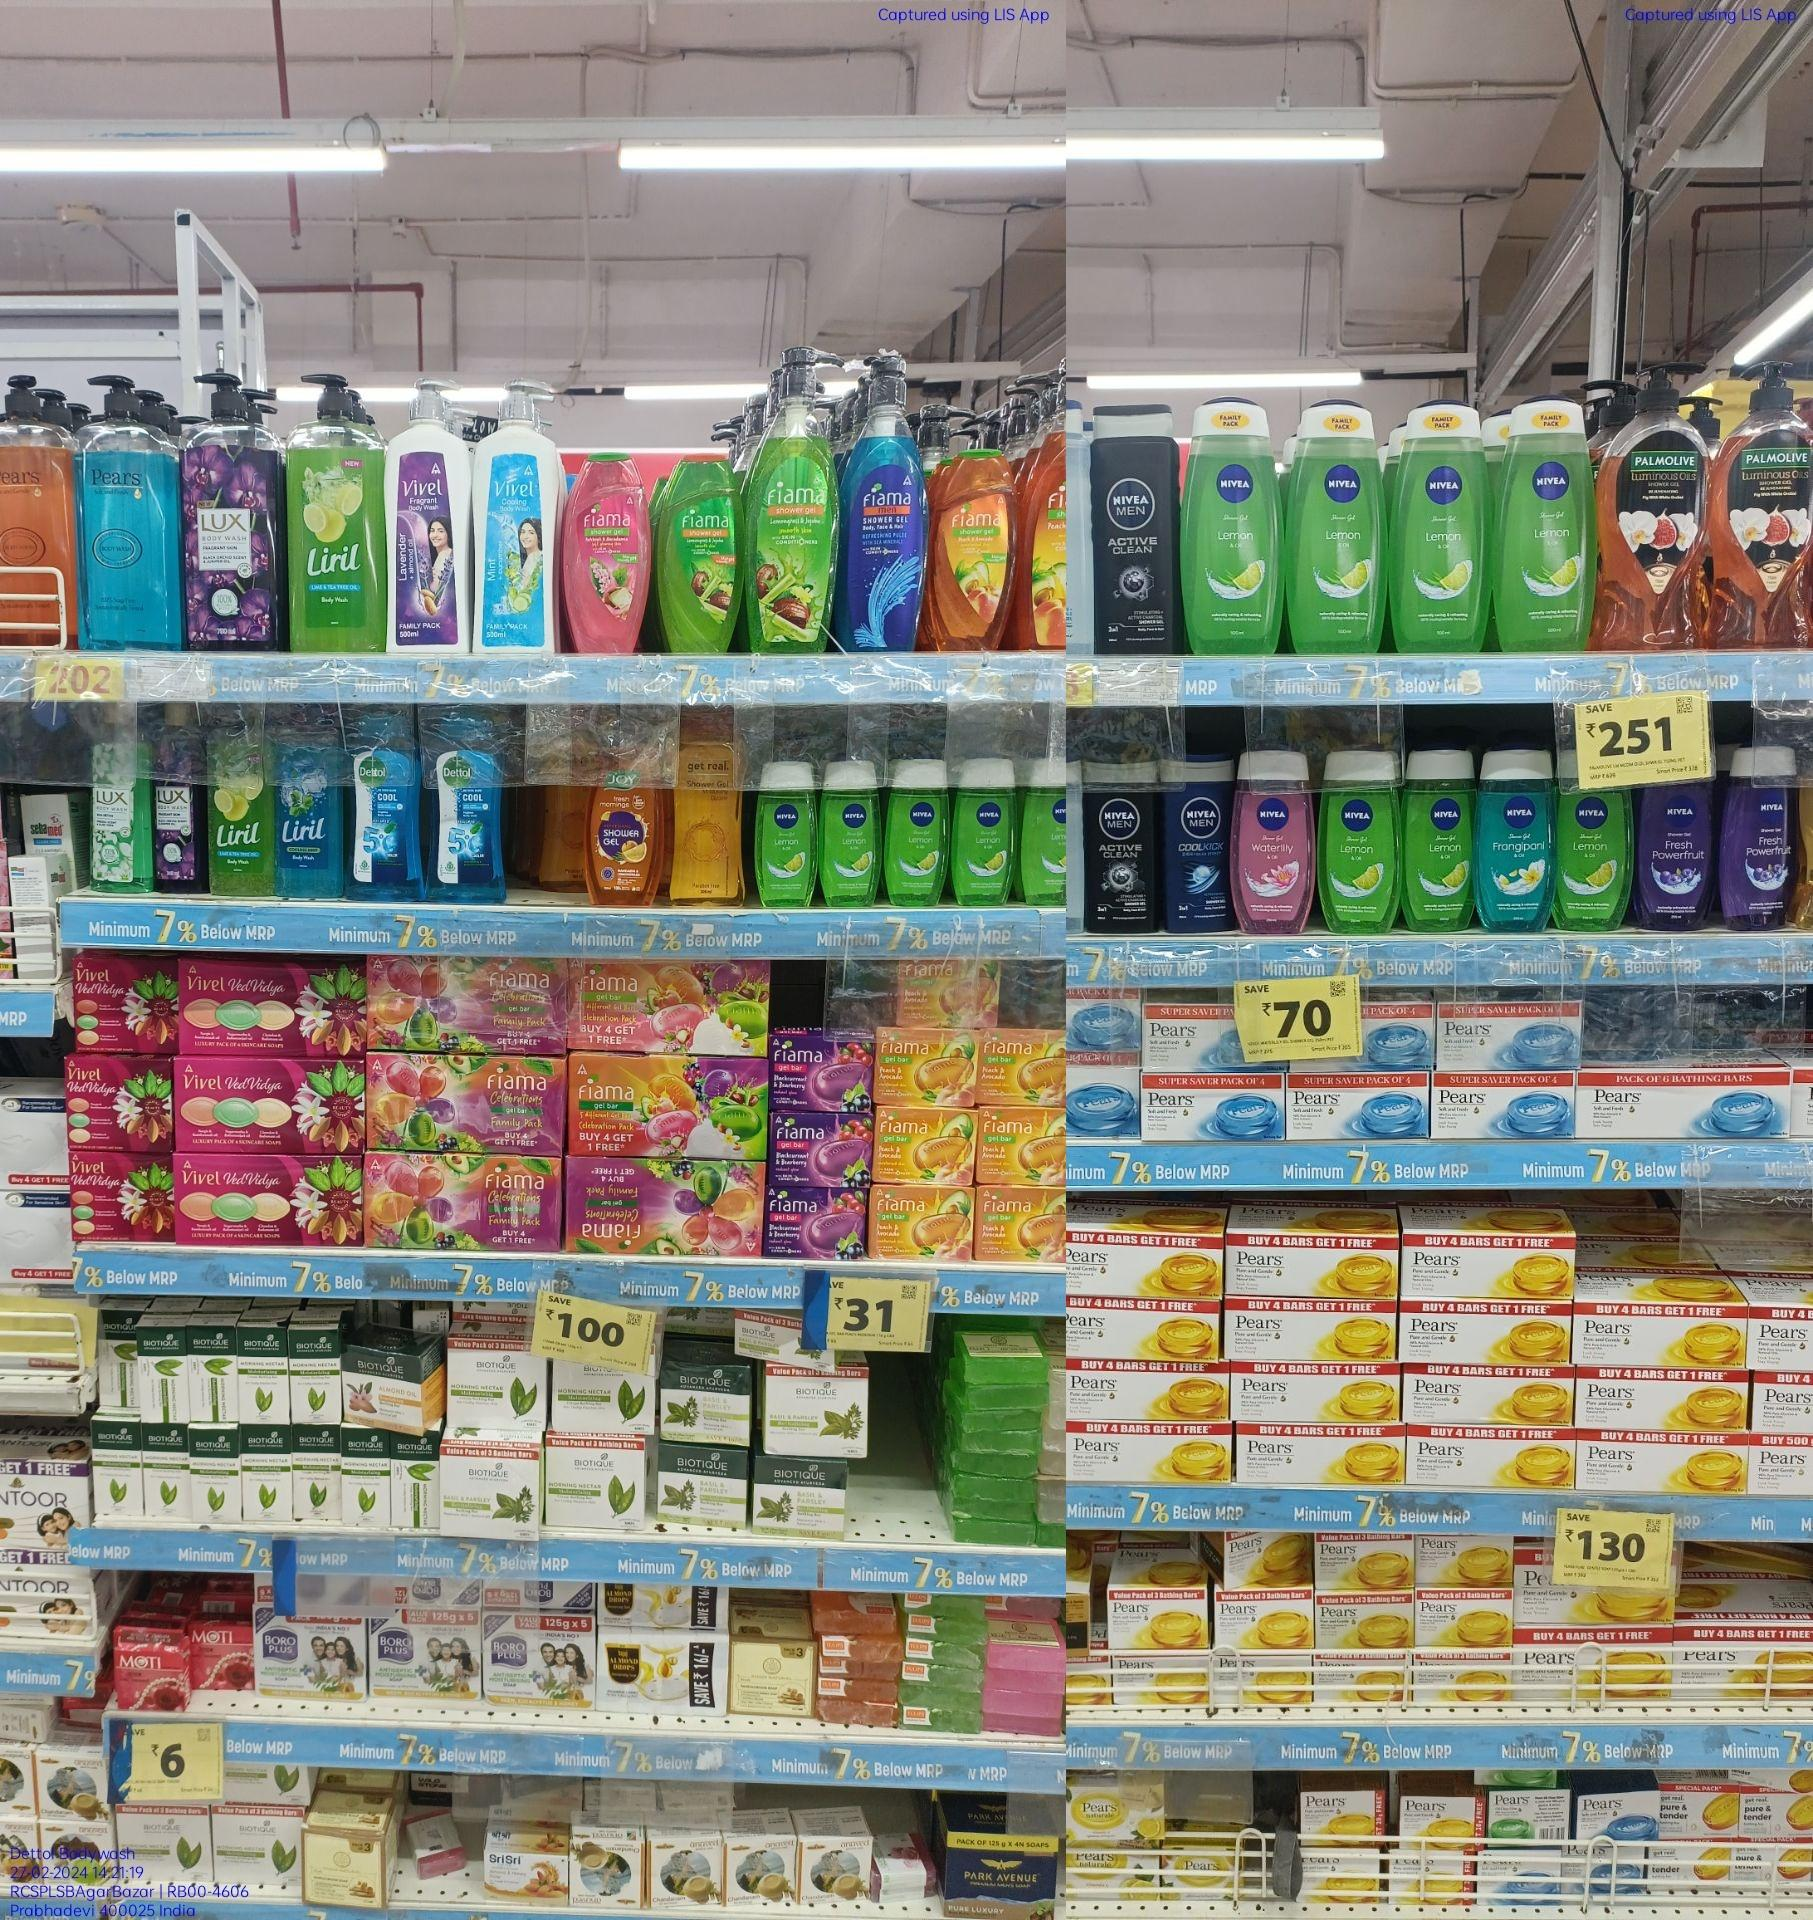Dettol_Bodywash_Cool: (349, 709, 423, 905), (431, 705, 501, 906)
Fiama_Shower_Gel_Lemongrass_and_Jojoba_250ML: (656, 450, 734, 654)
Fiama_Shower_Gel_Patchouli_and_Macadamia_250ML: (567, 450, 646, 656)
Fiama_Shower_Gel_Peach_and_Avocado_250ML: (941, 446, 1016, 654)
Get_Real_Shower_Gel_Moisturising_Glycerin_300ML: (671, 719, 743, 906)
Joy_Shower_Gel_Mandarin_and_Lemongrass_250ML: (593, 716, 658, 908)
Liril_Cooling_Mint_Body_Wash_250ML: (278, 700, 341, 900)
Liril_Lime_and_Tea_Tree_Oil_Body_Wash_250ML: (210, 709, 271, 896)
Lux_Black_Orchid_Scent_and_Juniper_Oil_Body_Wash_245ML: (150, 705, 201, 896)
Lux_Body_Wash_Skin_Detox_Freesia_Scent_and_Alove_Vera_245ML: (92, 704, 143, 896)
Nivea_Shower_Gel_Frangipani_and_Oil_250ML: (1477, 743, 1552, 934)
Nivea_Shower_Gel_Fresh_Powerfruit_250ML: (1726, 746, 1803, 935), (1639, 784, 1714, 935)
Nivea_Shower_Gel_Lemon_and_Oil_250ML: (1179, 394, 1281, 658), (1394, 394, 1488, 659), (1288, 397, 1384, 658), (1501, 392, 1593, 656), (1327, 750, 1399, 937), (1404, 743, 1472, 932), (1556, 773, 1631, 934), (751, 758, 814, 911), (953, 760, 1016, 908), (820, 758, 878, 906), (889, 760, 946, 906), (1022, 756, 1065, 908)
Nivea_Shower_Gel_Waterlily_and_Oil_250ML: (1232, 750, 1315, 939)
